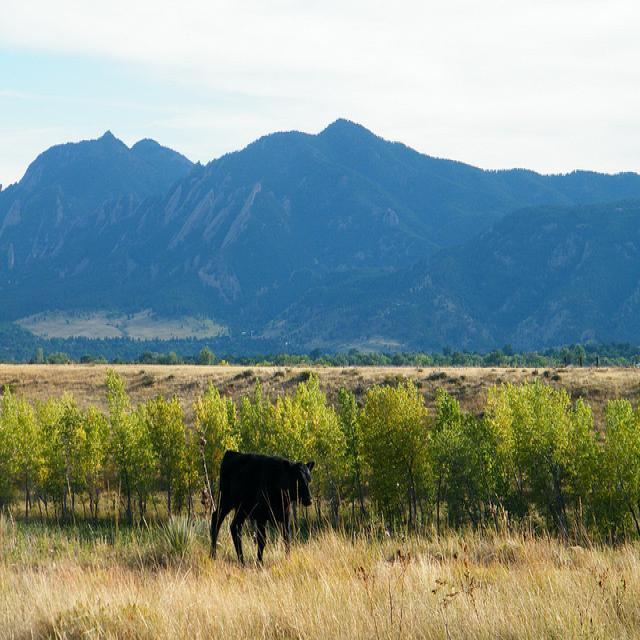cow: (207, 448, 312, 561)
